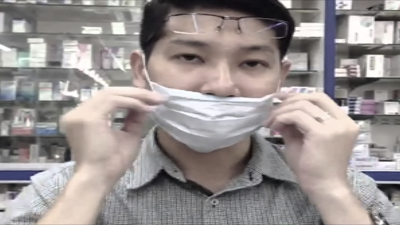mask_weared_incorrect: (146, 37, 284, 154)
